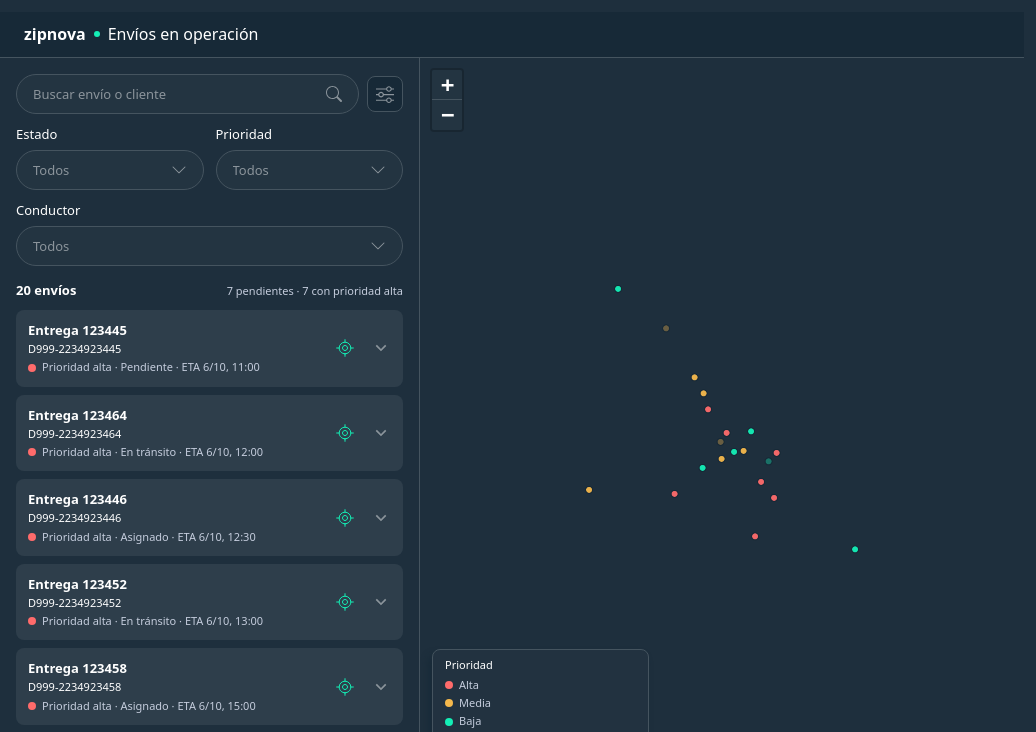
Test: App › shows an empty state when nothing matches
The width and height of the screenshot is (1036, 732).
Type "no-existe" into the search field named "Buscar por número" at coordinates (174, 94), box [33,83,314,105]
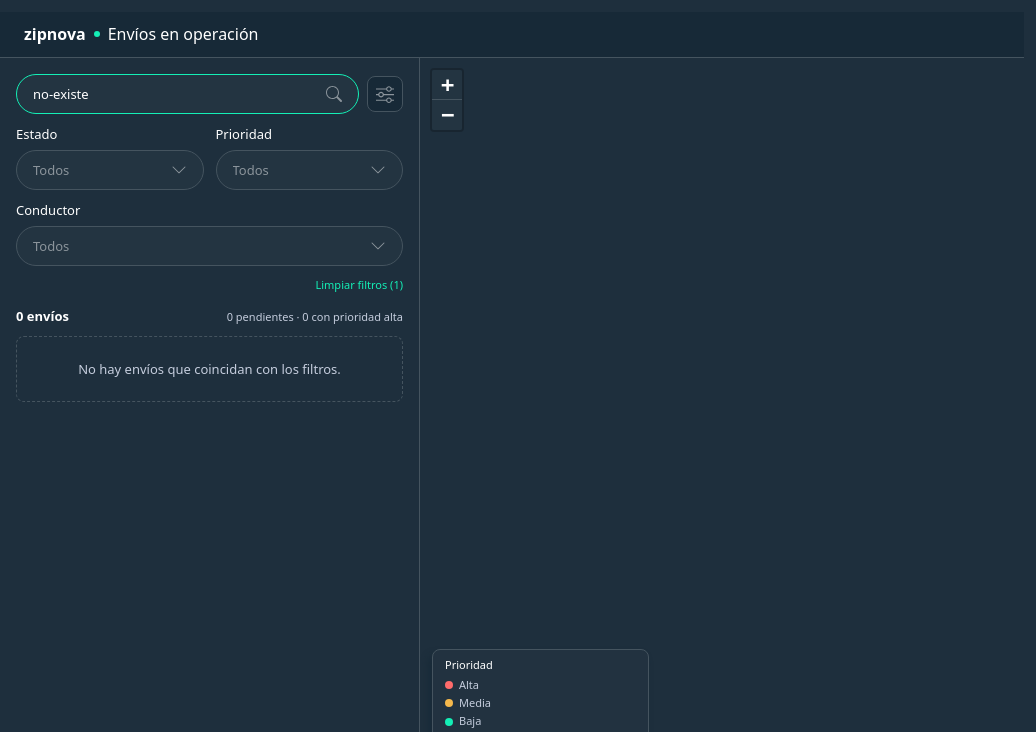
Result: the text "No hay envíos que coincidan con los filtros." is shown at [16,336,403,402]
